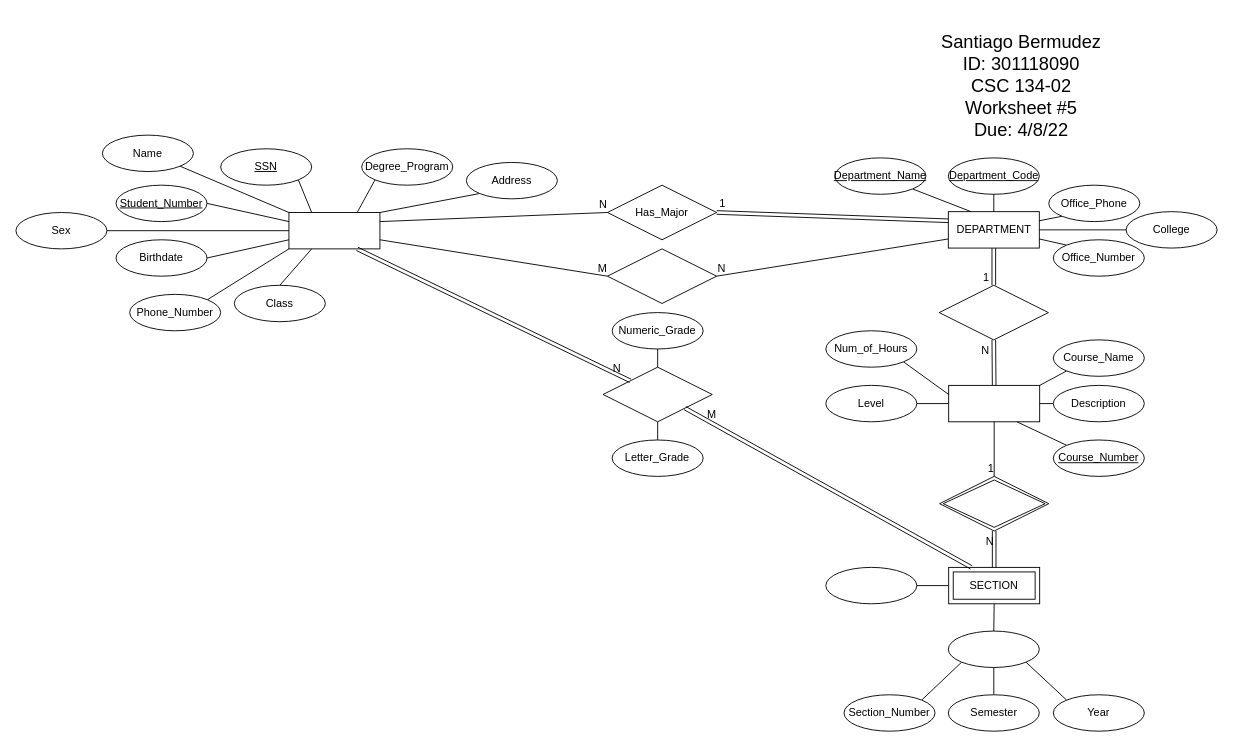
The diagram is 1233 pixels wide and 747 high, and some of its shapes have lost their labels. Here are the shapes that lost their labels. From the top down, the centre of each, then its label:
At point (334, 230): "STUDENT".
At point (662, 275): "Has_Minor".
At point (993, 312): "Offers".
At point (657, 394): "Receives_Grades".
At point (994, 403): "COURSE".
At point (994, 503): "Has".
At point (871, 585): "Instructor".
At point (993, 648): "Key".
